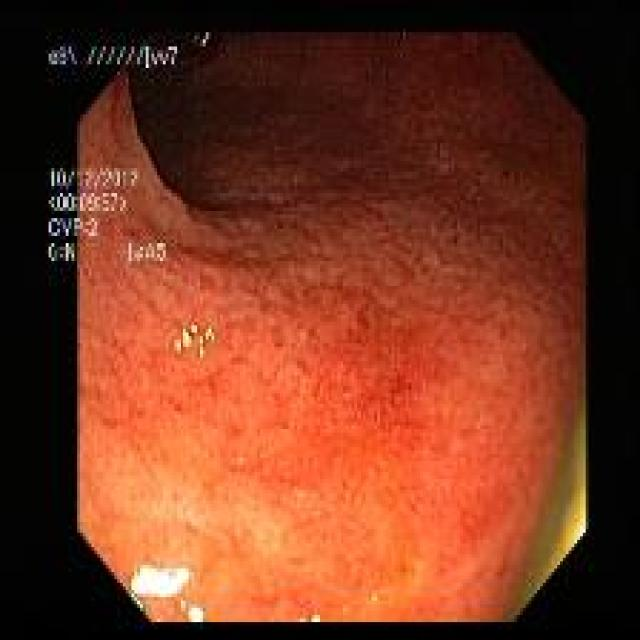ulcerative-colitis: (80, 77, 585, 621)
